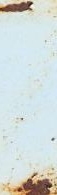Corrosion: (1, 167, 57, 195), (1, 1, 34, 13)
